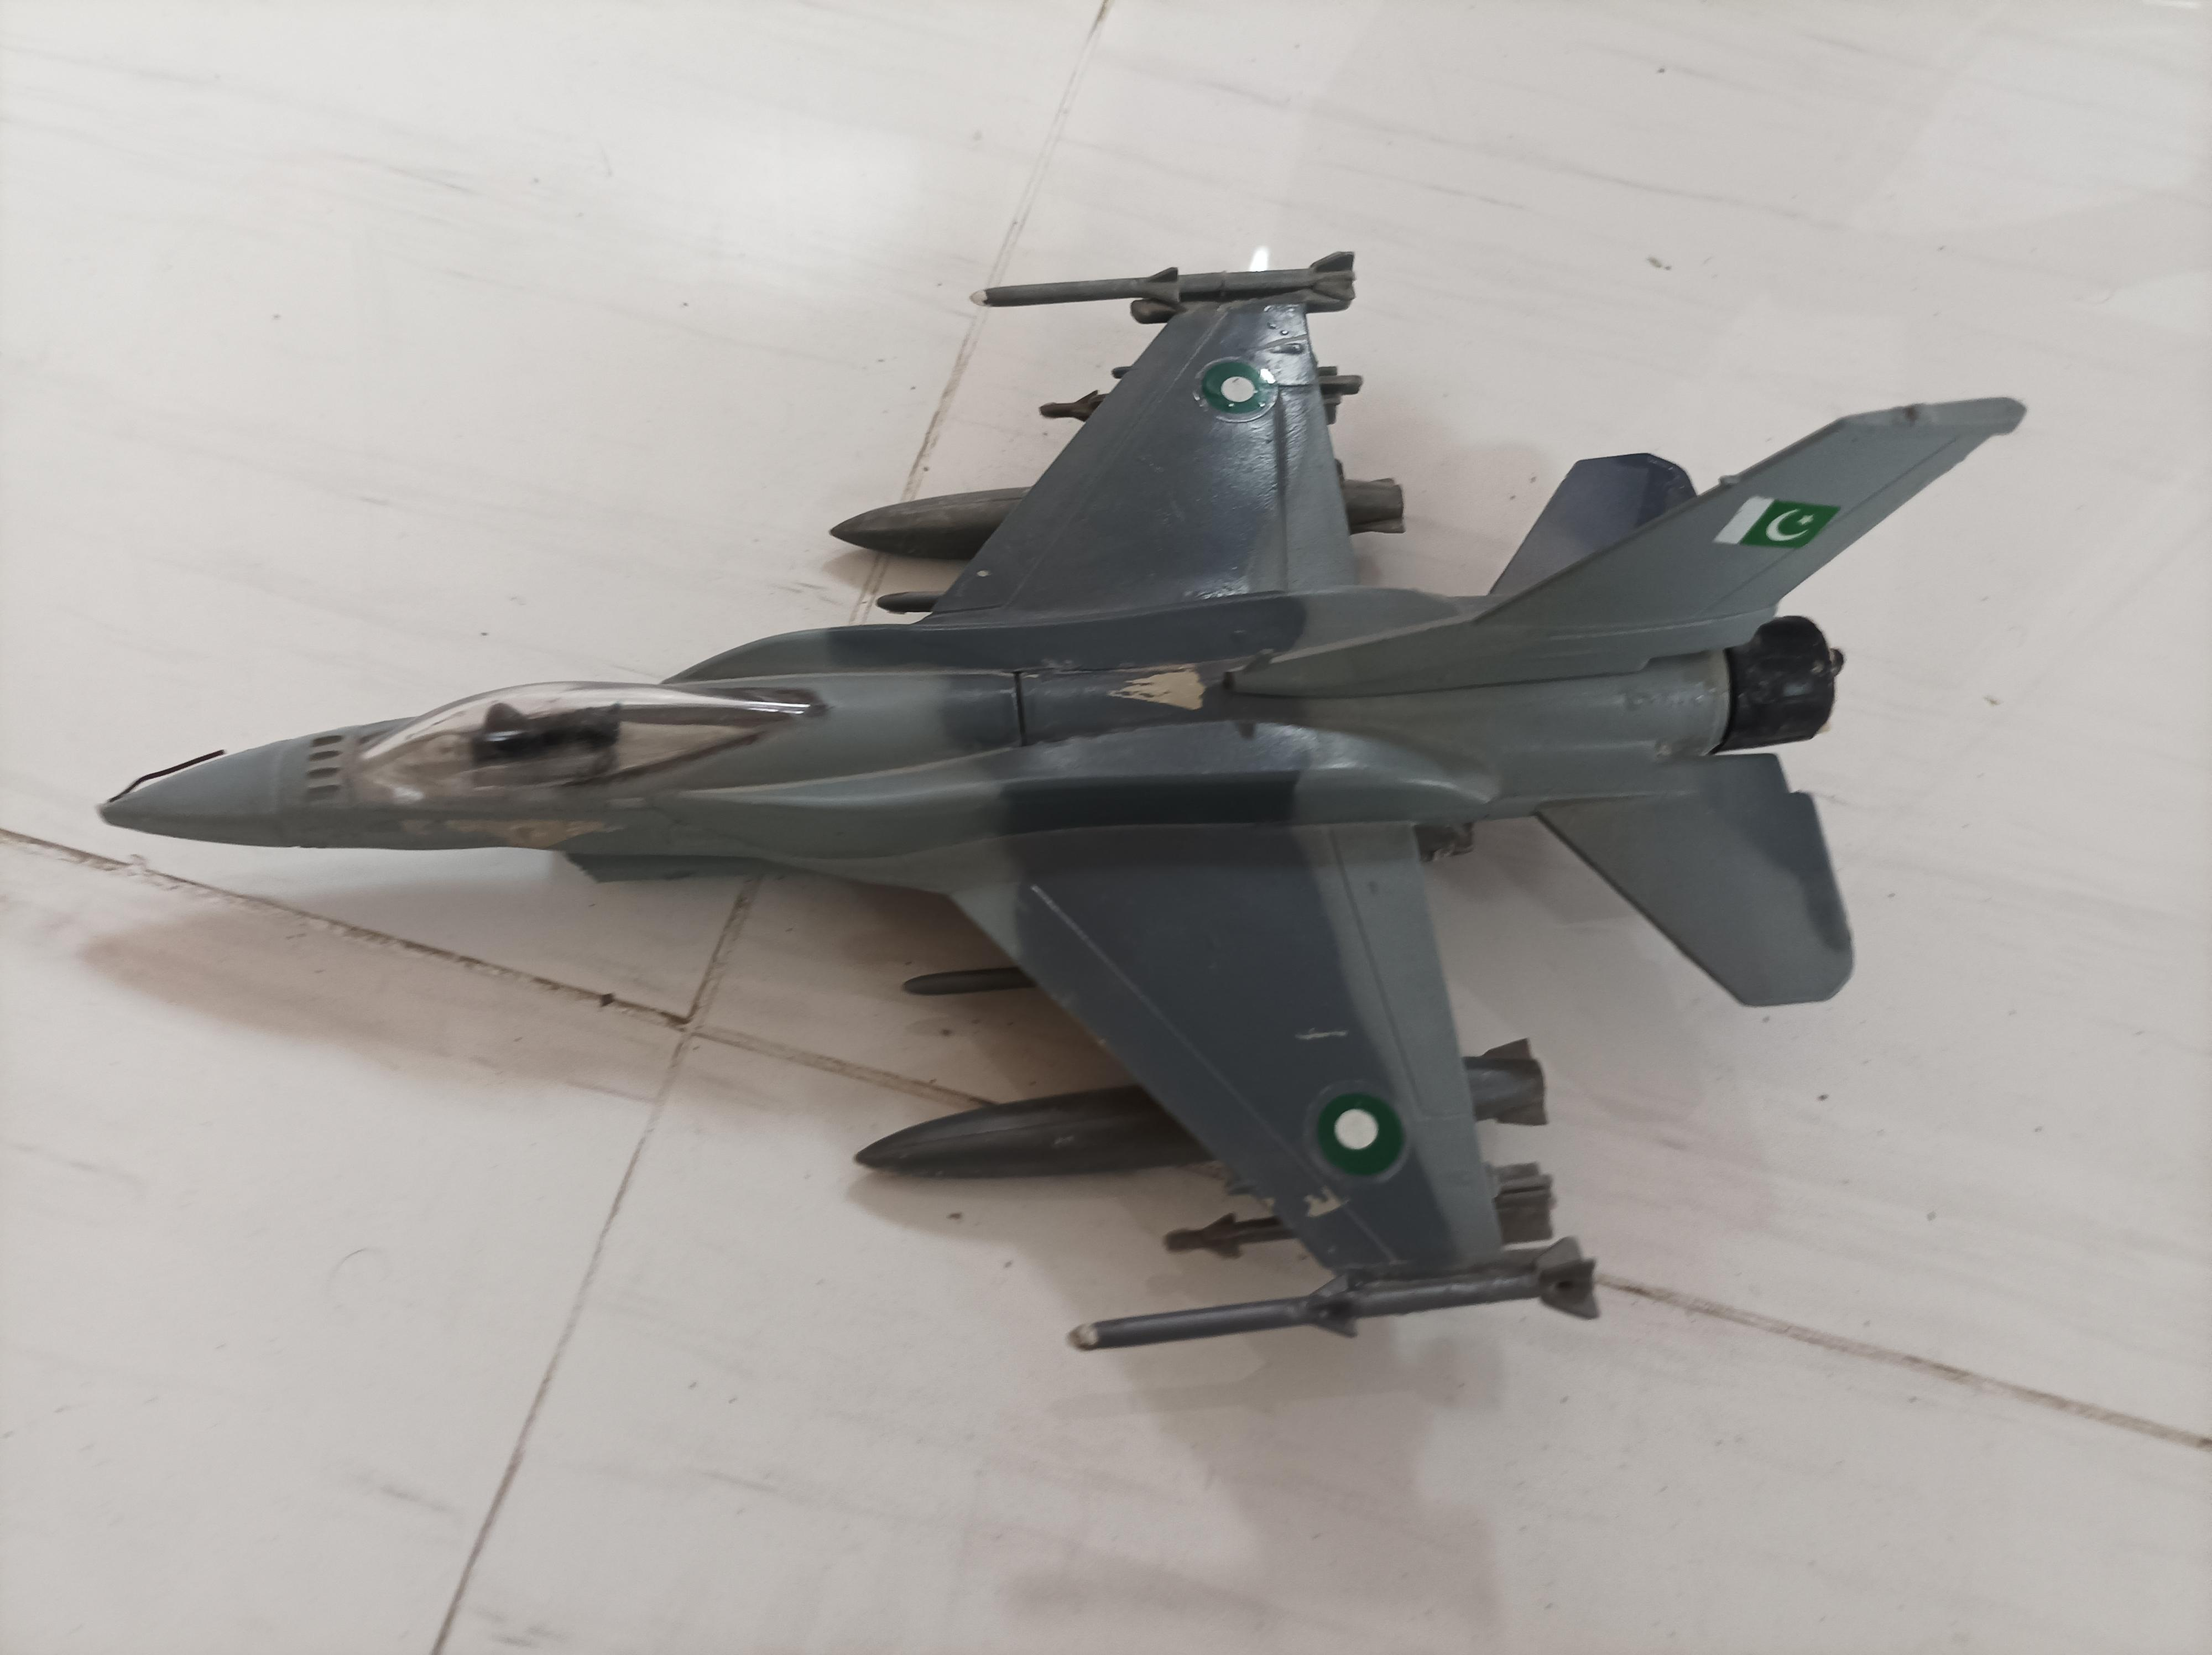Airplane: (83, 214, 2040, 1422)
